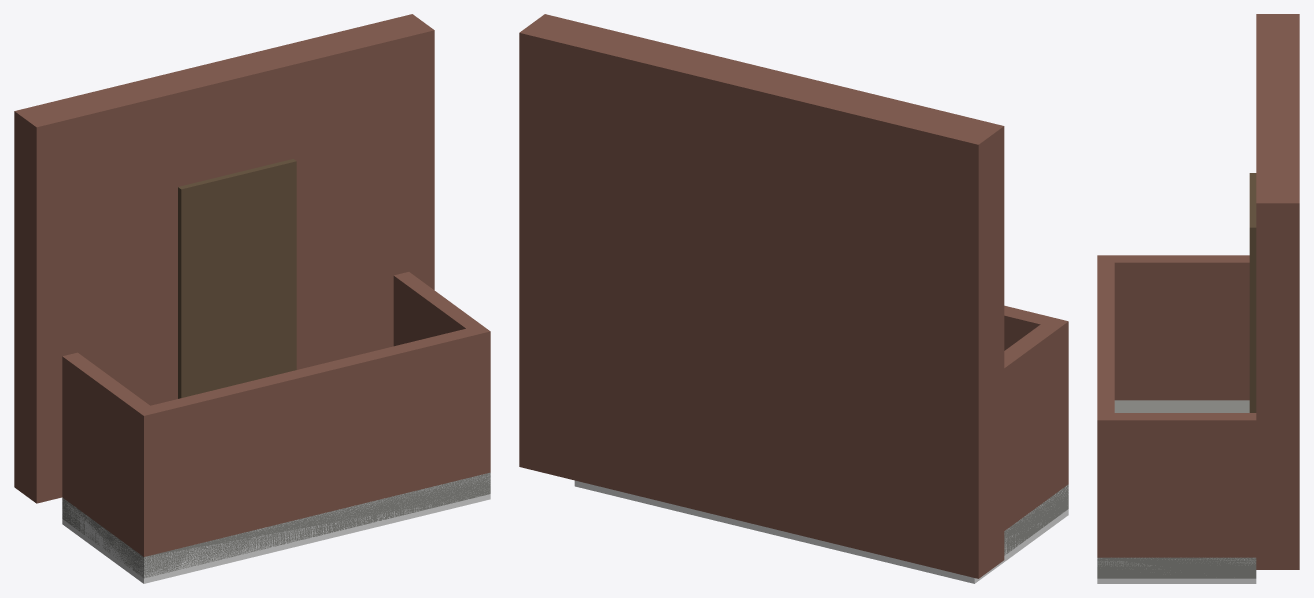
The model's file is balcony_open_brick.glb.
The picture shows the model from 3 angles, left to right: view 1: azimuth 30°, elevation 25°; view 2: azimuth 150°, elevation 25°; view 3: azimuth 270°, elevation 25°; orthographic projection. The views are drawn at different scales.
Parts seen in each view (by area): view 1: balcony_mesh, balcony_open_brick-col; view 2: balcony_mesh, balcony_open_brick-col; view 3: balcony_mesh, balcony_open_brick-col.
Part boxes in pixels (x1=…): balcony_mesh: x1=14, y1=14, x2=490, y2=578; balcony_open_brick-col: x1=62, y1=473, x2=490, y2=583; balcony_mesh: x1=519, y1=14, x2=1068, y2=578; balcony_open_brick-col: x1=574, y1=480, x2=1068, y2=583; balcony_mesh: x1=1097, y1=14, x2=1299, y2=578; balcony_open_brick-col: x1=1097, y1=558, x2=1256, y2=583.
Bounding box in the file's own units: 3.1 × 3 × 1.4.
